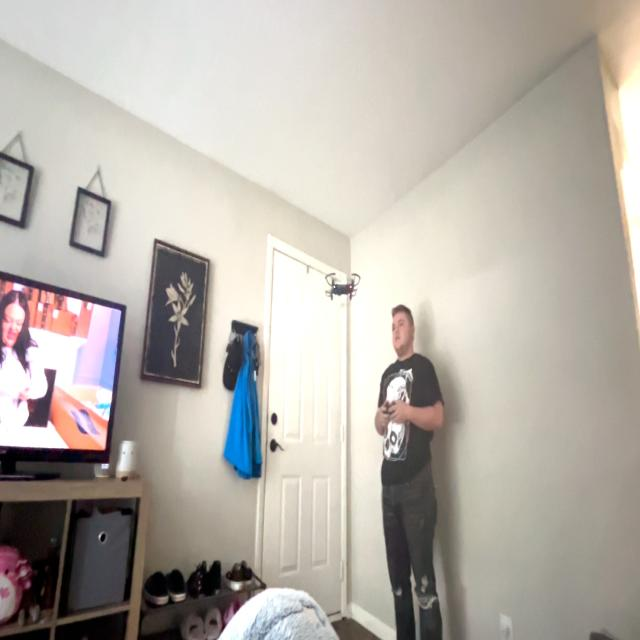drone: (314, 249, 369, 318)
